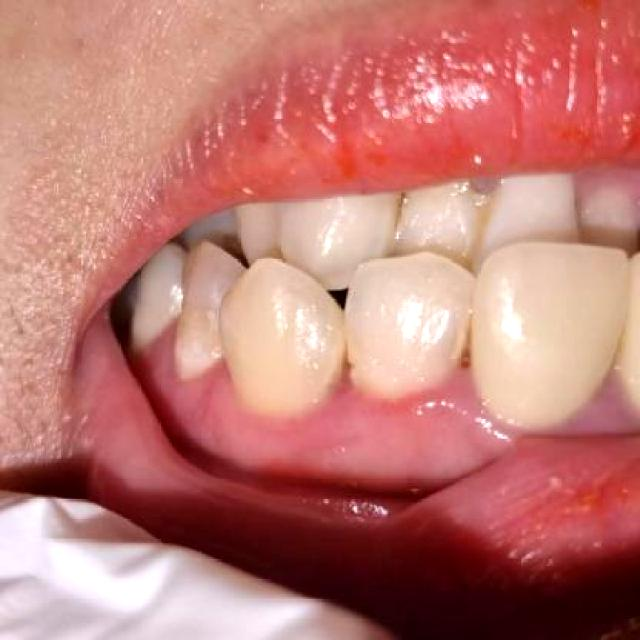Plaque: (346, 253, 474, 401), (467, 178, 500, 199)
